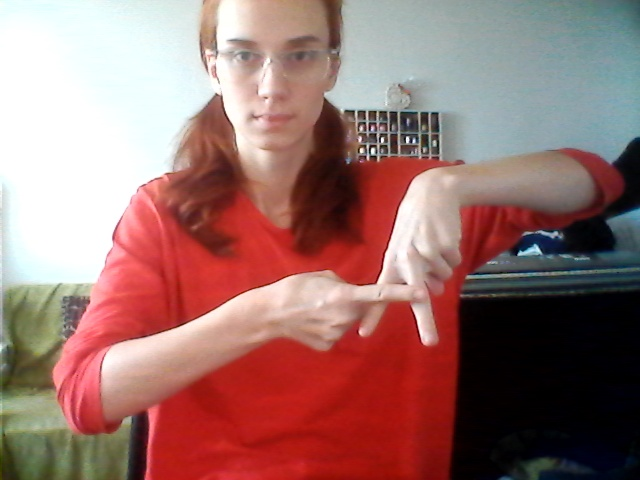a: (316, 257, 459, 370)
